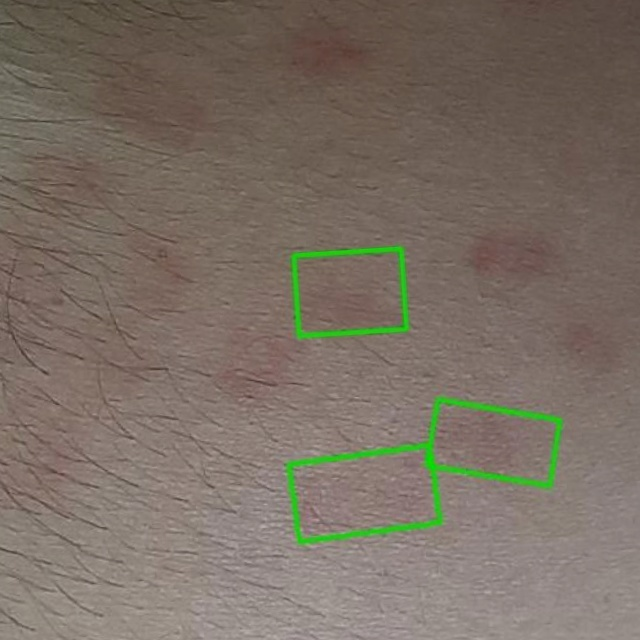Tinea Corporis: (288, 446, 439, 542), (426, 400, 559, 486), (294, 248, 406, 335)
